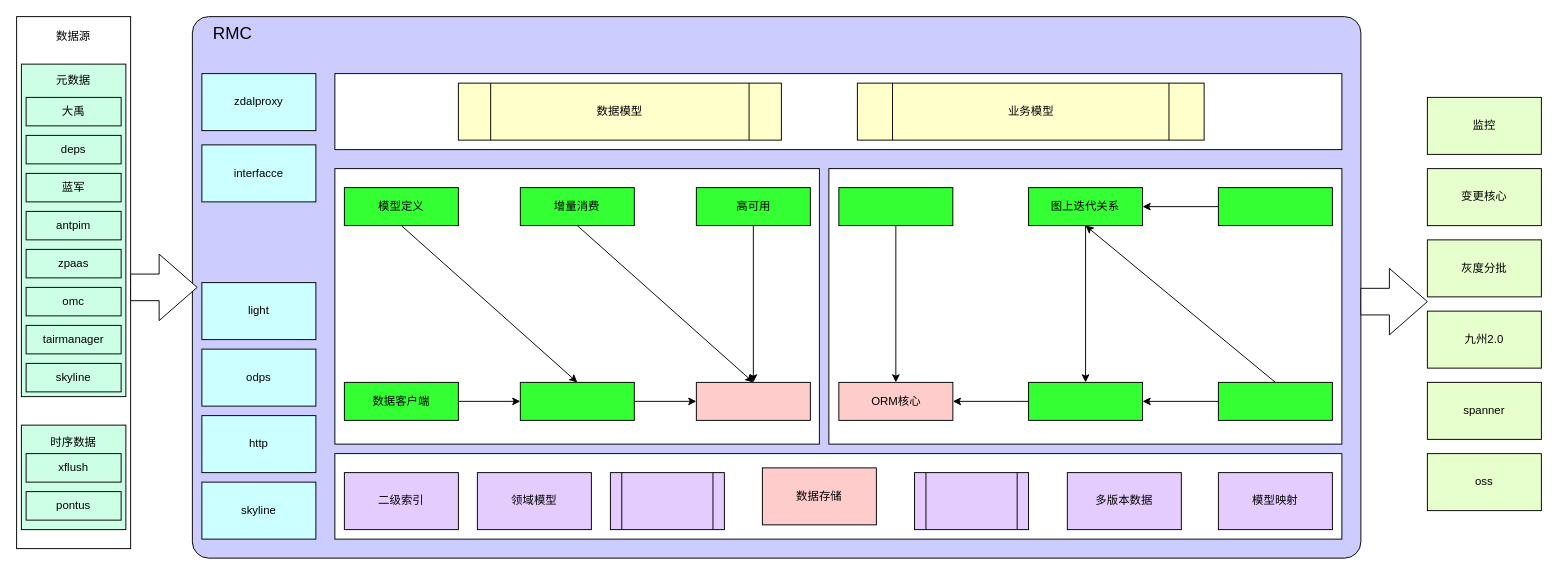
Some shapes in this 1558 by 575 pixel diagram are drawn without their labels. Each missing label, with the centre of its shape:
lindorm: the point at 971,501
业务场景解析: the point at 1085,400
全量拉取: the point at 576,400
实体列表: the point at 895,206
影响面配置: the point at 1274,400
数据结构: the point at 666,501
模型组装: the point at 752,400
自动影响面: the point at 1274,206
